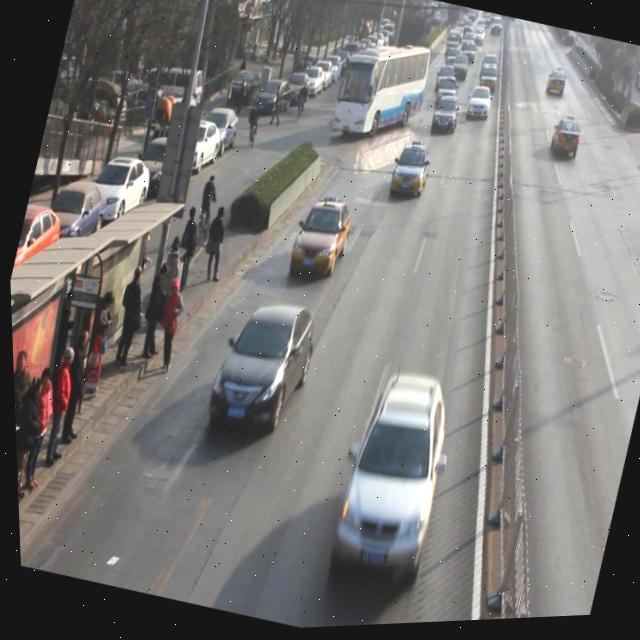car: (320, 364, 464, 587), (198, 289, 324, 446), (284, 195, 357, 285), (385, 143, 435, 206), (544, 116, 586, 168), (427, 95, 464, 142), (464, 87, 495, 127), (431, 77, 461, 115)
van: (326, 31, 436, 153)
